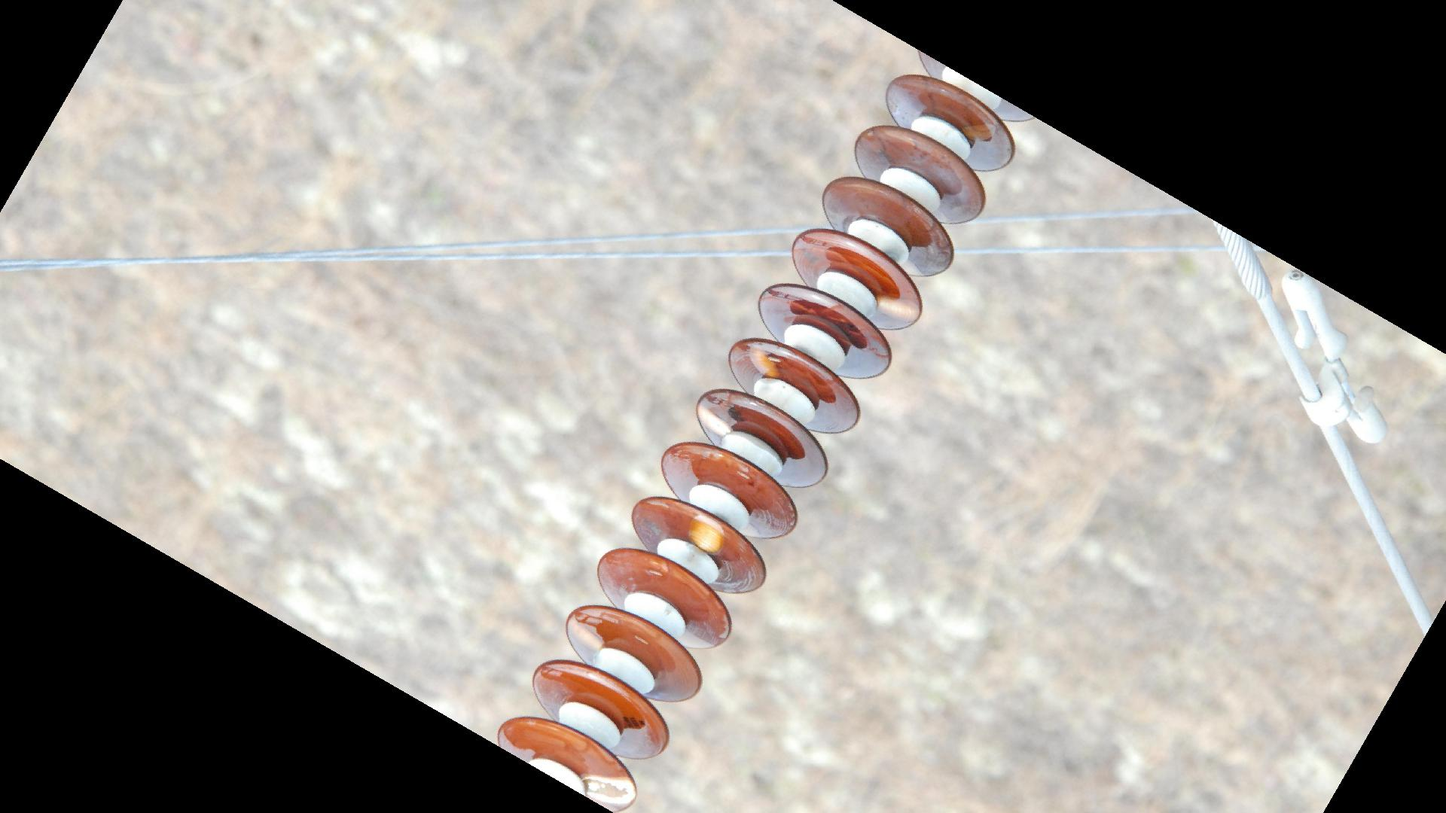insulator: (491, 43, 1040, 813)
insulator_flashover: (581, 774, 639, 810), (686, 513, 727, 557), (874, 294, 922, 324), (697, 403, 734, 438), (568, 616, 605, 650), (747, 345, 781, 381)
